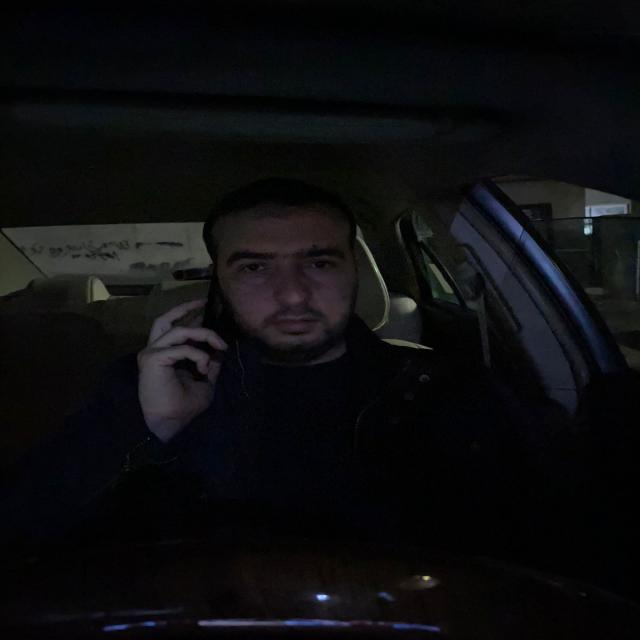mobile: (178, 262, 243, 388)
person: (203, 187, 379, 365)
